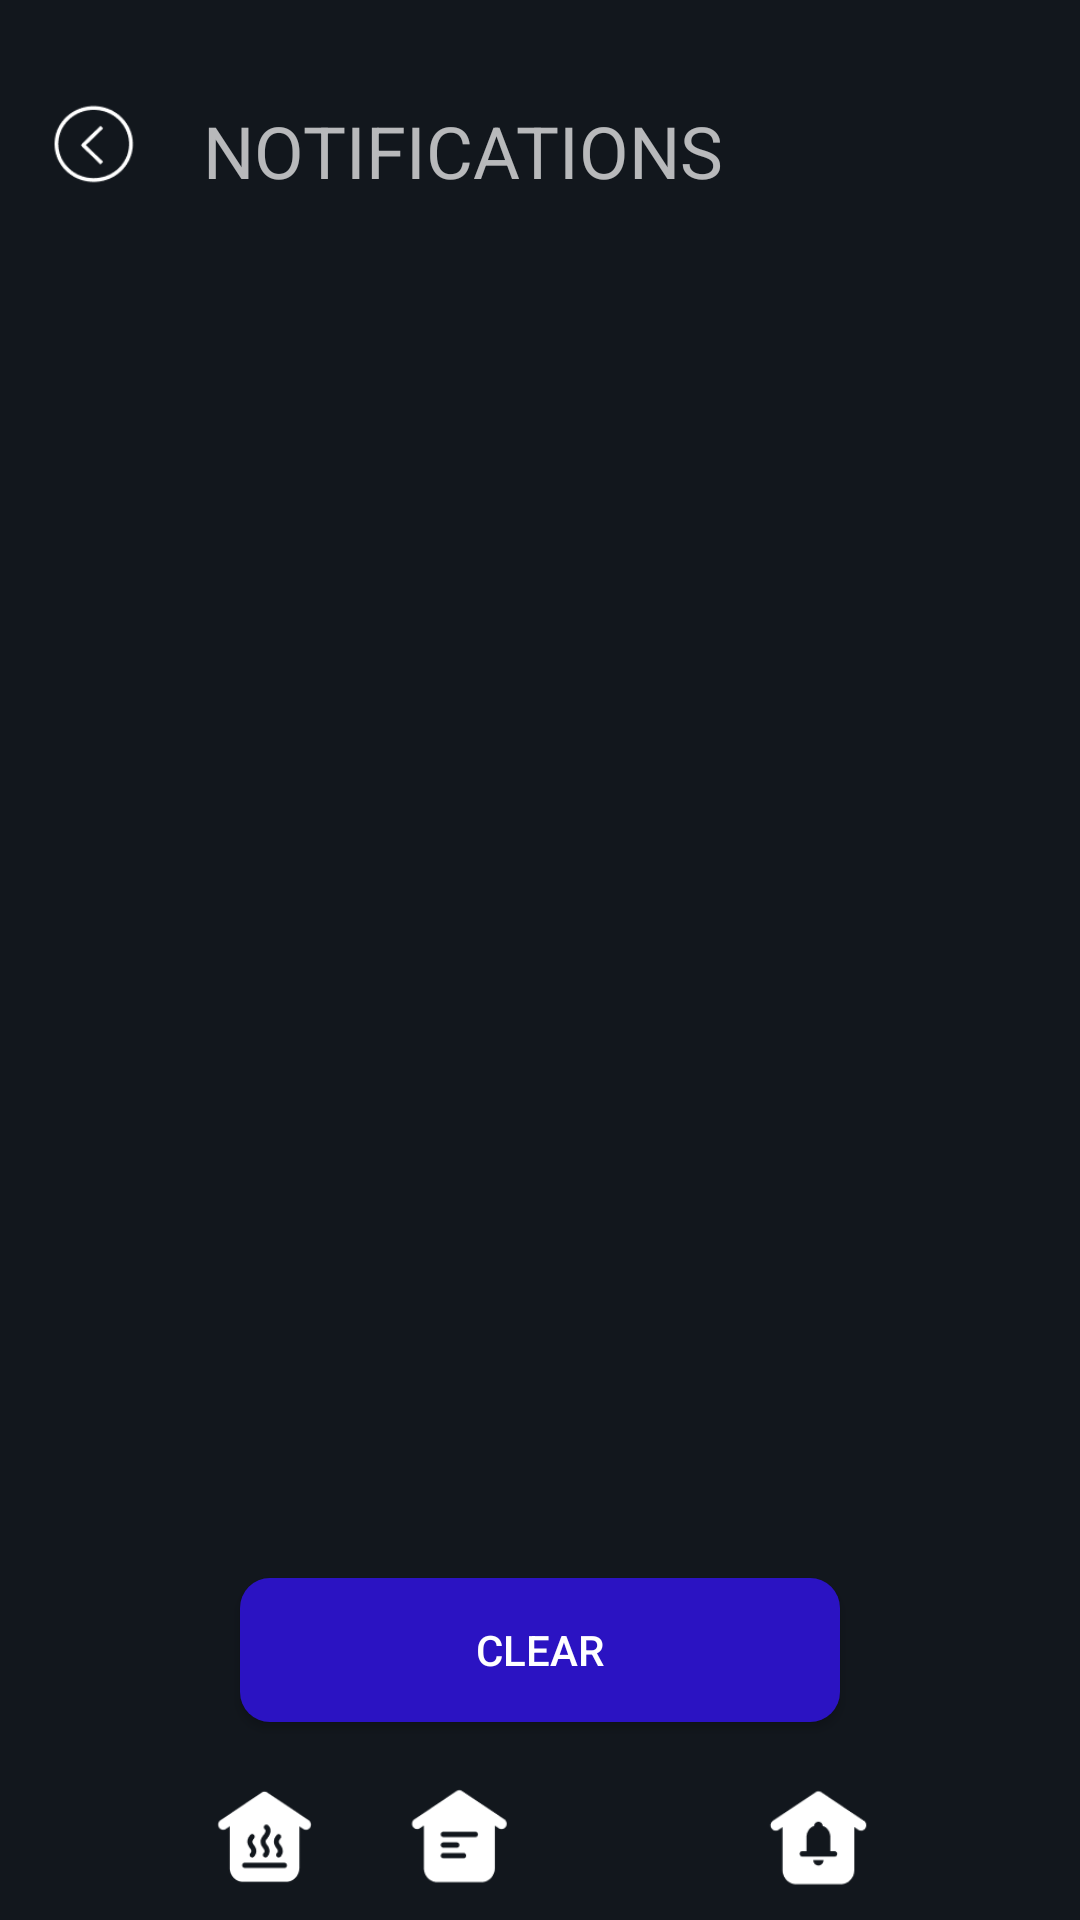

Icons on this 1080*1920 Android screen, each with the point to tap as (x=x, y=y):
back arrow: (x=94, y=144)
home: (x=264, y=1836)
notification: (x=818, y=1838)
